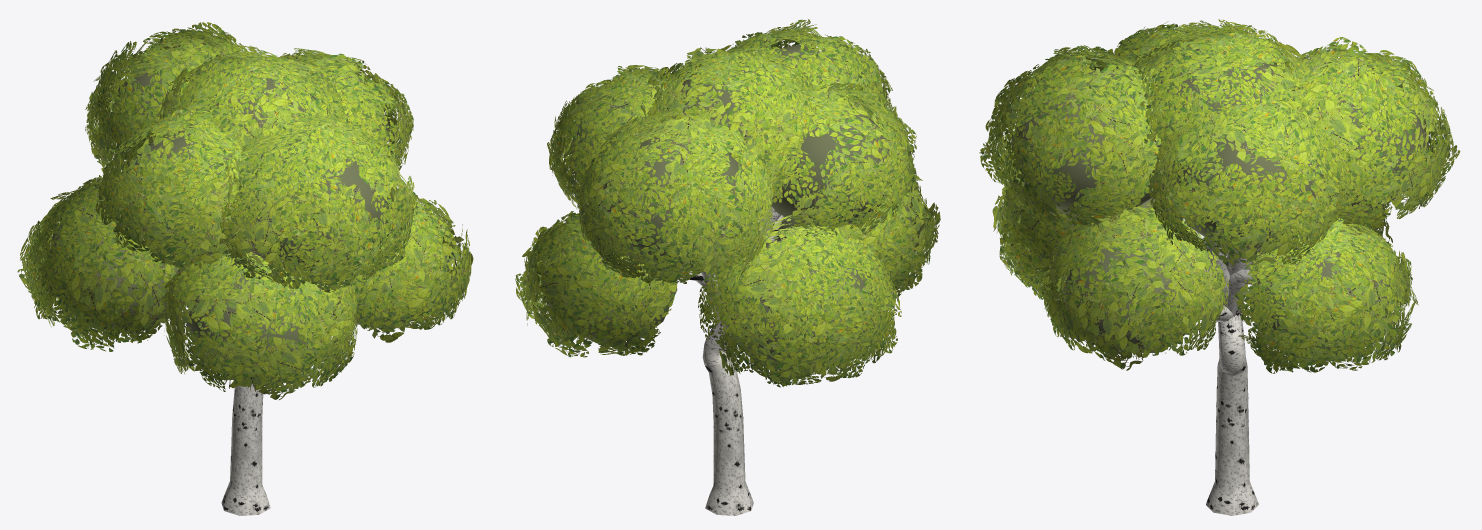
Rendered from tree_birch_1.glb.
The picture shows the model from 3 angles, left to right: view 1: azimuth 30°, elevation 25°; view 2: azimuth 150°, elevation 25°; view 3: azimuth 270°, elevation 25°; orthographic projection. The views are drawn at different scales.
Parts seen in each view (by area): view 1: Leaves, CrownCore, Trunk; view 2: Leaves, CrownCore, Trunk; view 3: Leaves, CrownCore, Trunk.
Boxes of the visible parts, x1=… form: Leaves: x1=17, y1=22, x2=473, y2=399; CrownCore: x1=50, y1=49, x2=449, y2=386; Trunk: x1=211, y1=254, x2=270, y2=515; Leaves: x1=515, y1=19, x2=940, y2=387; CrownCore: x1=544, y1=44, x2=912, y2=372; Trunk: x1=679, y1=206, x2=783, y2=515; Leaves: x1=979, y1=19, x2=1460, y2=373; CrownCore: x1=1011, y1=47, x2=1428, y2=361; Trunk: x1=1163, y1=190, x2=1258, y2=515.
Size of the model in its own units: 4.19 by 5.05 by 4.7.
3 materials, 2 textured.
